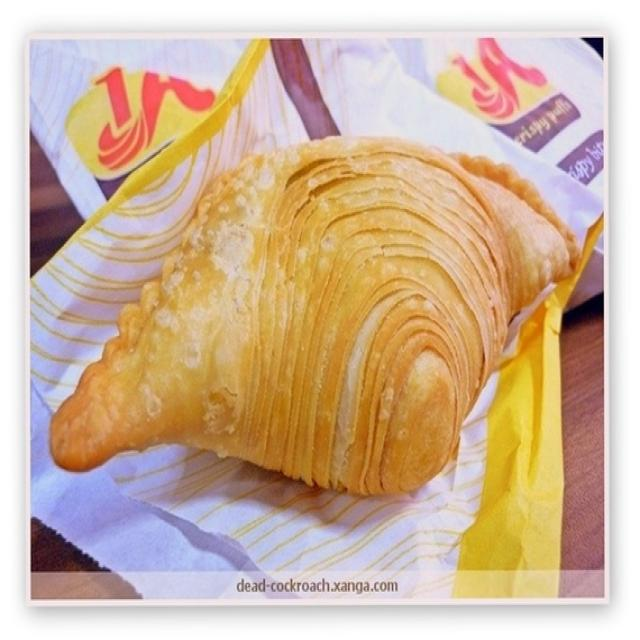炸货点心: (44, 62, 574, 560)
